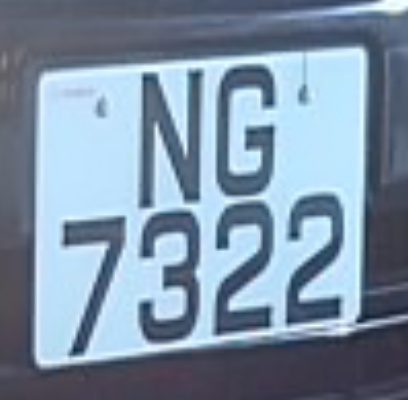2: (273, 184, 354, 329), (204, 198, 283, 342)
3: (125, 204, 209, 350)
7: (49, 204, 127, 363)
G: (201, 57, 283, 202)
N: (126, 55, 217, 217)
